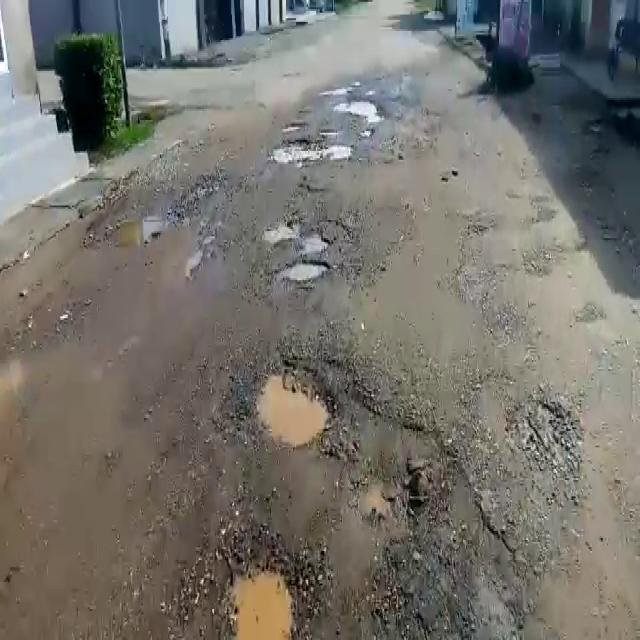Pothole: (253, 359, 333, 446), (223, 565, 300, 640), (272, 132, 350, 166), (111, 214, 166, 252), (264, 220, 328, 252), (275, 253, 329, 283), (334, 96, 388, 124)
